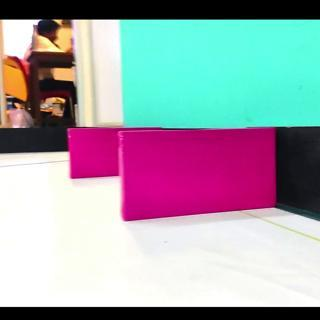xparking: (124, 132, 275, 222), (71, 128, 119, 180)
